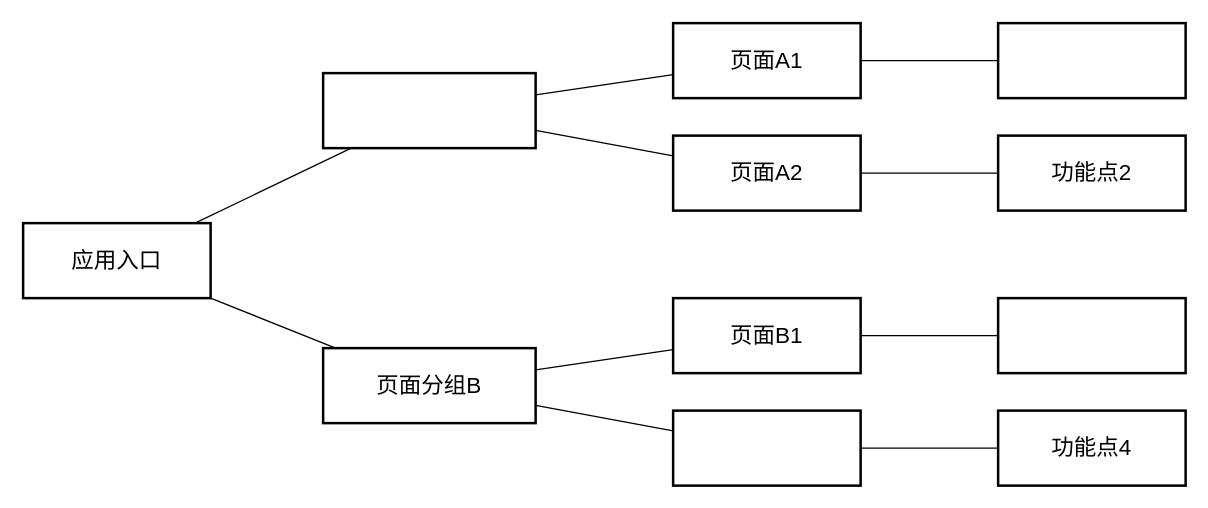
This 1208x508 diagram has some shape labels left out. Each missing label, with the box of its shape:
功能点1: (996, 21, 1186, 99)
功能点3: (996, 296, 1186, 374)
页面B2: (671, 409, 861, 486)
页面分组A: (321, 71, 536, 149)
